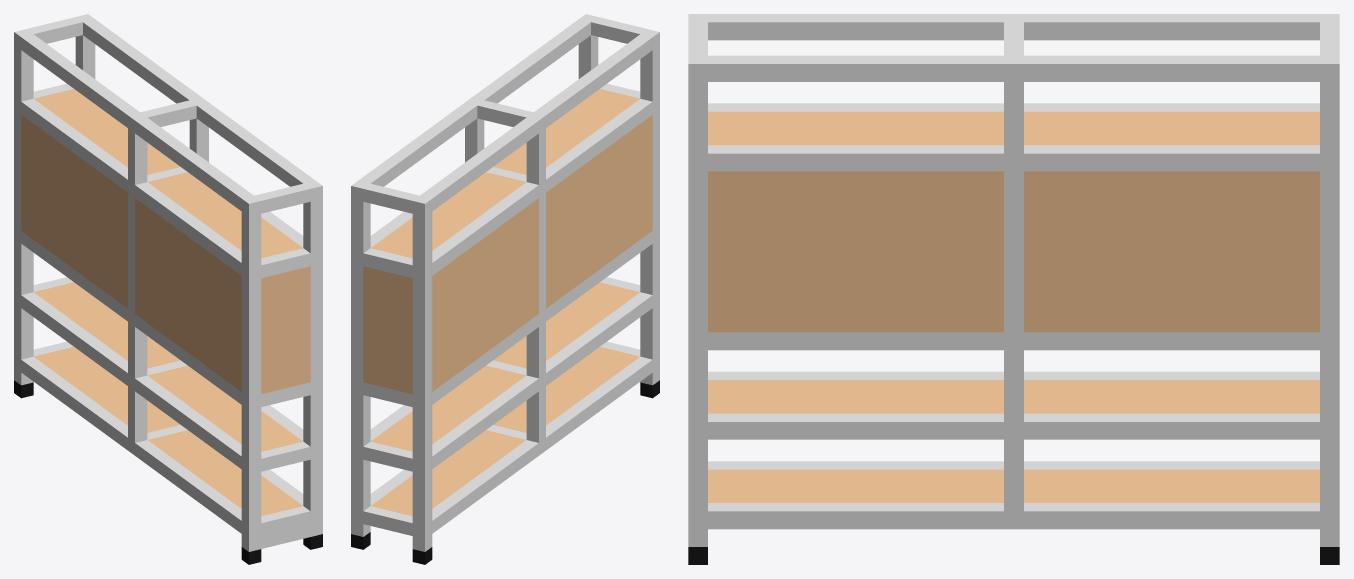
File: dice_2og-38-standup_divider.obj
3 views of the same model, side by side, from view 1: azimuth 30°, elevation 25°; view 2: azimuth 150°, elevation 25°; view 3: azimuth 270°, elevation 25° (orthographic). The views are drawn at different scales.
Parts seen in each view (by area): view 1: standup_divider; view 2: standup_divider; view 3: standup_divider.
Boxes of the visible parts, left/top/right/bottom form: standup_divider: left=14, top=14, right=322, bottom=564; standup_divider: left=351, top=14, right=659, bottom=564; standup_divider: left=688, top=14, right=1339, bottom=564.
Bounding box in the file's own units: 0.6 × 2.8 × 3.3.
Materials: 1 (1 with a texture image).
